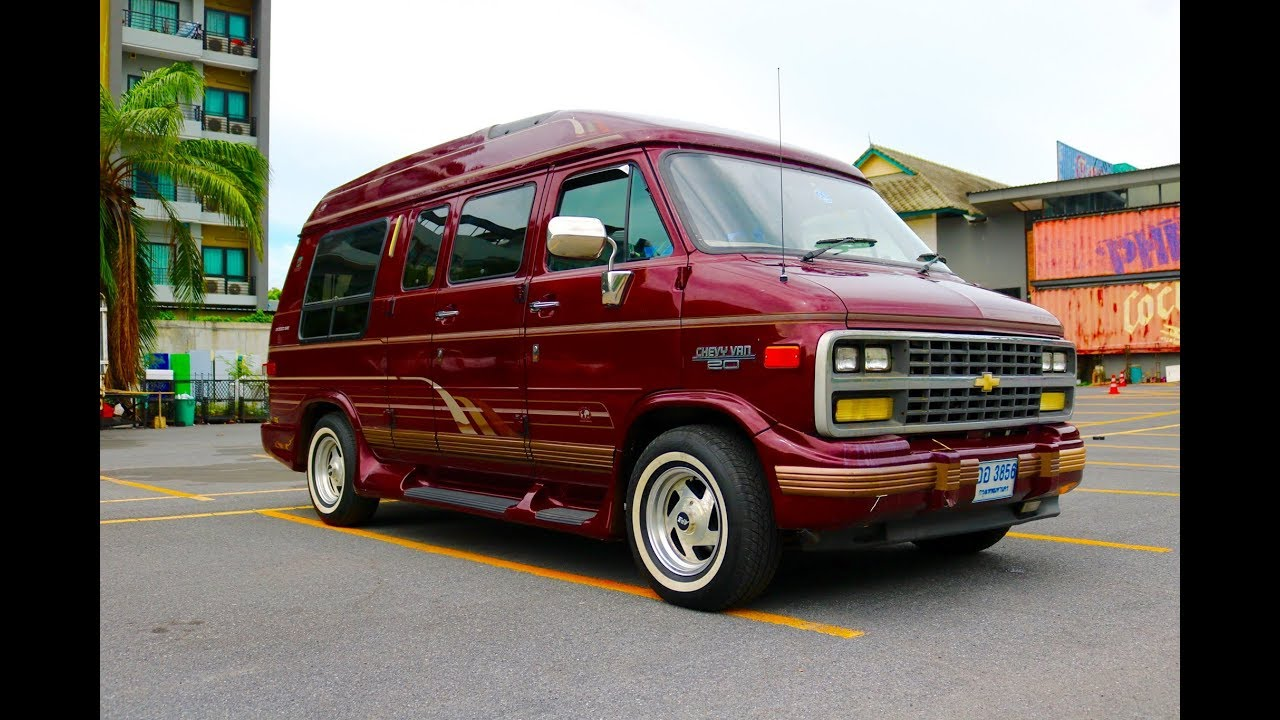van: (258, 103, 1090, 613)
